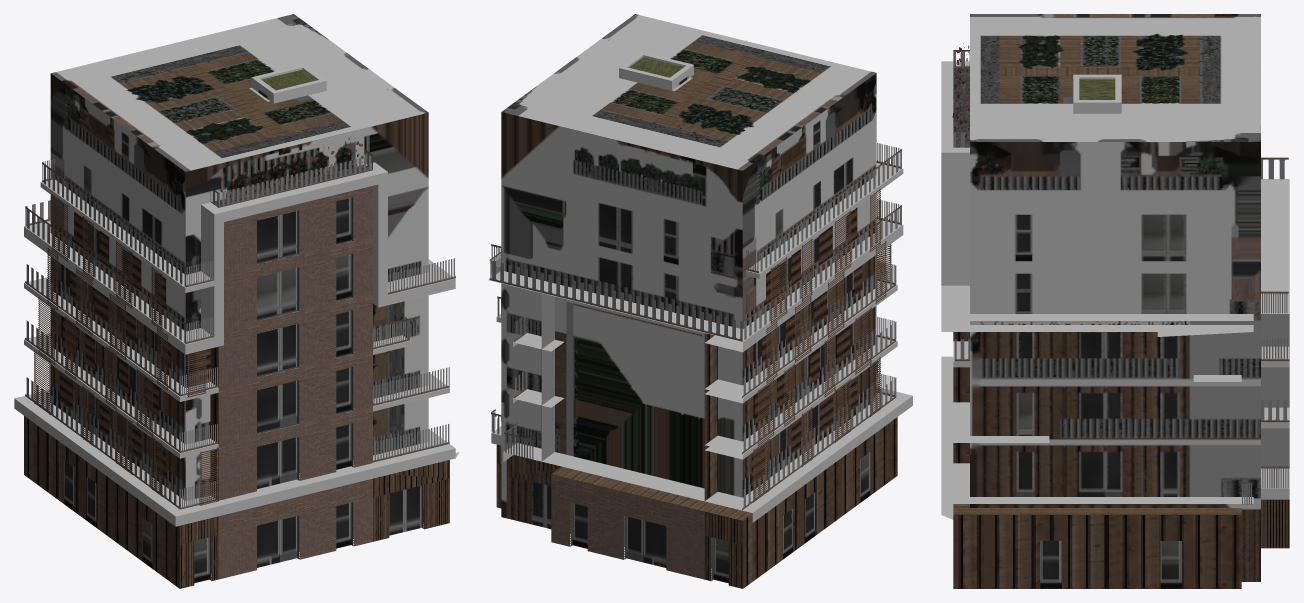
The model's file is lg_astergea_flats_01.fbx.
3 renders of one model, left to right at view 1: azimuth 30°, elevation 25°; view 2: azimuth 150°, elevation 25°; view 3: azimuth 270°, elevation 25°, orthographic. The views are drawn at different scales.
Parts seen in each view (by area): view 1: lg_astergea_flats_01_LOD0; view 2: lg_astergea_flats_01_LOD0; view 3: lg_astergea_flats_01_LOD0.
Boxes of the visible parts, x1,y1,x2,y2 form: lg_astergea_flats_01_LOD0: (14, 14, 459, 588); lg_astergea_flats_01_LOD0: (488, 14, 912, 588); lg_astergea_flats_01_LOD0: (941, 14, 1289, 588).
Size of what is drawn, in the model's own units: 15 by 20.7 by 14.5.
